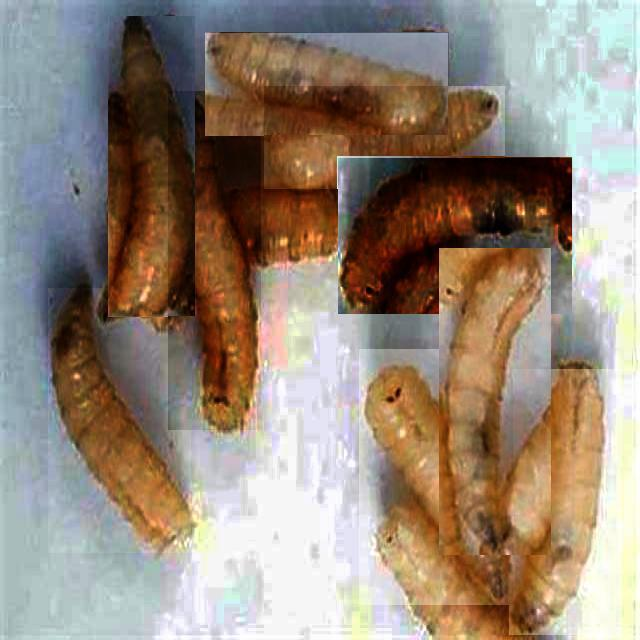whorl-maggot: (359, 350, 513, 605), (48, 288, 191, 553), (338, 158, 572, 314), (439, 248, 551, 556), (168, 92, 261, 430), (509, 370, 622, 635), (109, 16, 195, 316), (206, 33, 448, 136), (264, 86, 505, 189)
